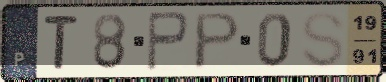0: (254, 10, 294, 70)
8: (90, 11, 129, 72)
P: (191, 10, 245, 72), (144, 9, 192, 74)
S: (299, 9, 347, 71)
T: (42, 13, 81, 72)
